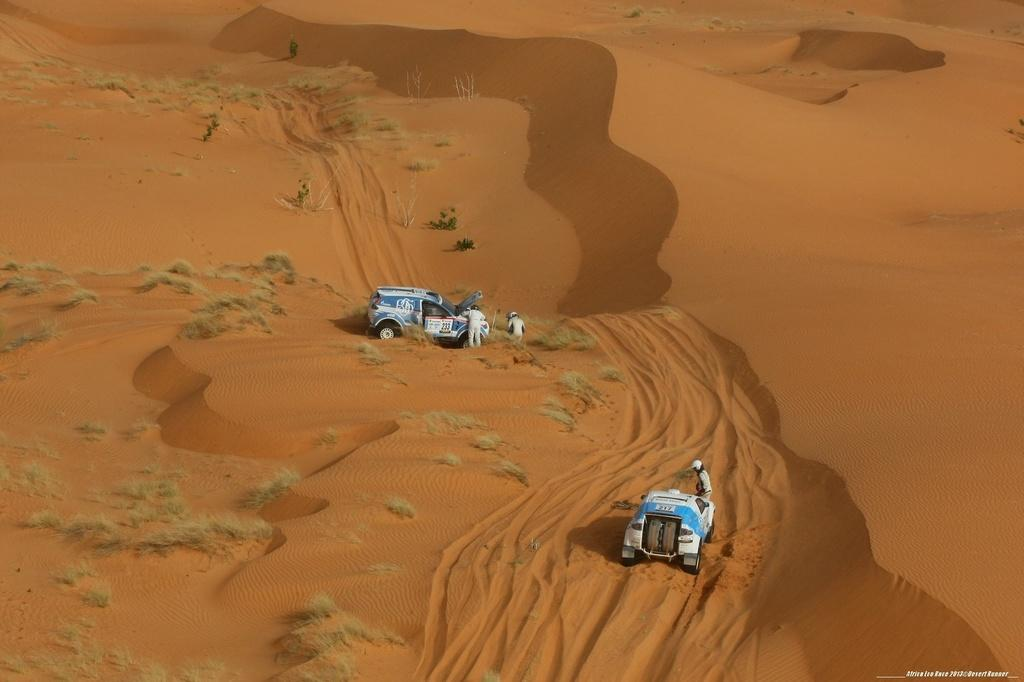Car: (620, 491, 719, 577), (368, 285, 491, 349)
